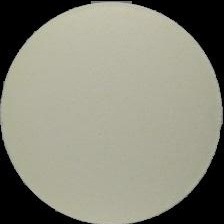51079-482: (0, 0, 224, 224)
